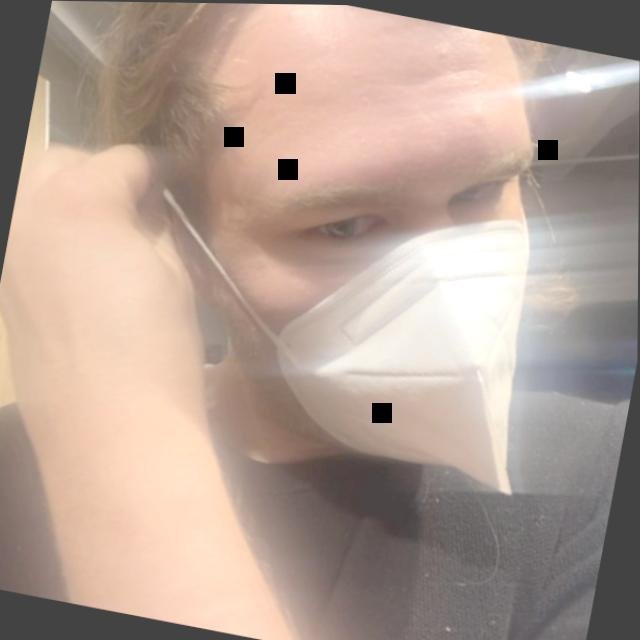Mask: (76, 1, 625, 471)
